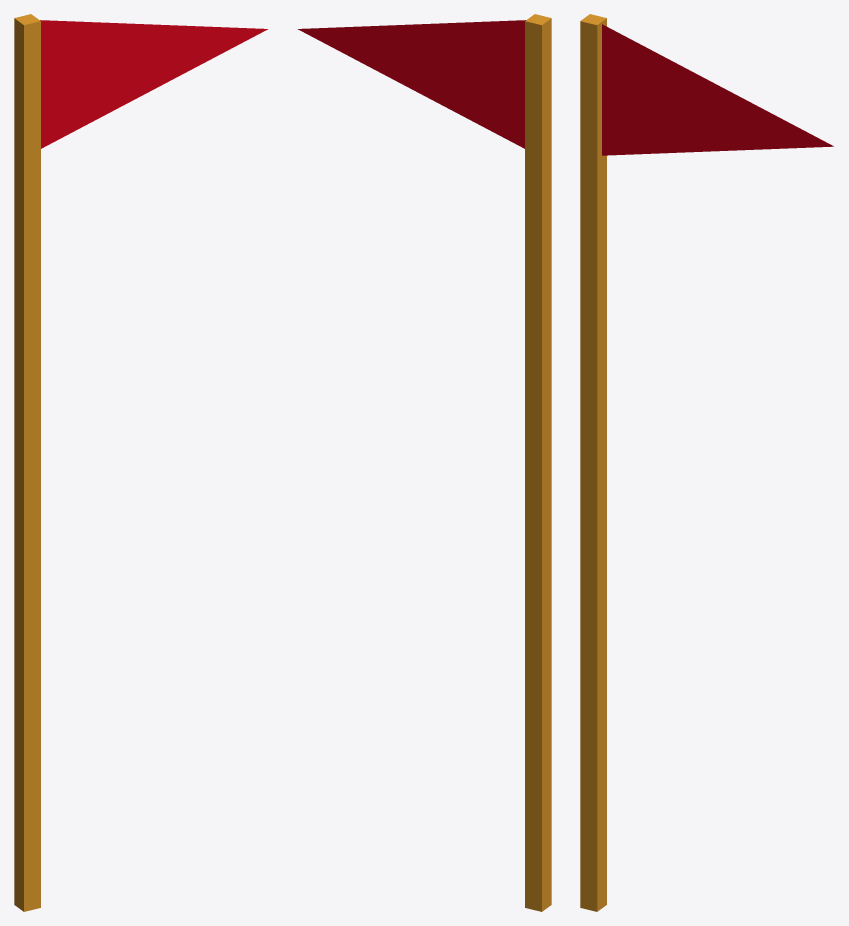
The model's file is Flag.fbx.
3 views of the same model, side by side, from view 1: azimuth 30°, elevation 25°; view 2: azimuth 150°, elevation 25°; view 3: azimuth 330°, elevation 25° (orthographic).
Visible parts, largest first — view 1: Cube, Plane; view 2: Cube, Plane; view 3: Cube, Plane.
Part boxes in pixels (x1=…): Cube: x1=14, y1=14, x2=40, y2=911; Plane: x1=40, y1=20, x2=267, y2=148; Cube: x1=525, y1=14, x2=551, y2=911; Plane: x1=298, y1=20, x2=525, y2=148; Cube: x1=580, y1=14, x2=606, y2=911; Plane: x1=602, y1=24, x2=833, y2=155.
Bounding box in the file's own units: 38.3 × 130 × 2.6.
